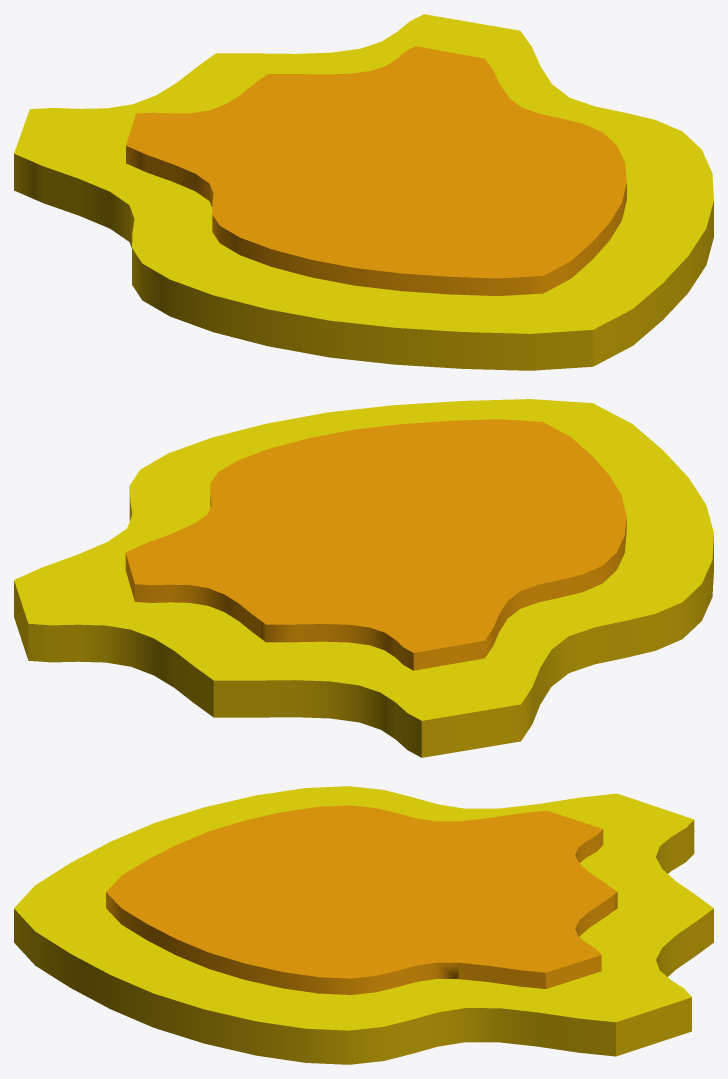
The model's file is Shield.fbx.
3 renders of one model, top to bottom at view 1: azimuth 30°, elevation 25°; view 2: azimuth 150°, elevation 25°; view 3: azimuth 270°, elevation 25°, orthographic. The views are drawn at different scales.
Parts seen in each view (by area): view 1: Shield; view 2: Shield; view 3: Shield.
Part boxes in pixels (x1,y1,x2,y2): Shield: [14, 14, 713, 370]; Shield: [14, 399, 713, 757]; Shield: [14, 786, 713, 1064].
Size of the model in its own units: 117 by 11.26 by 141.
